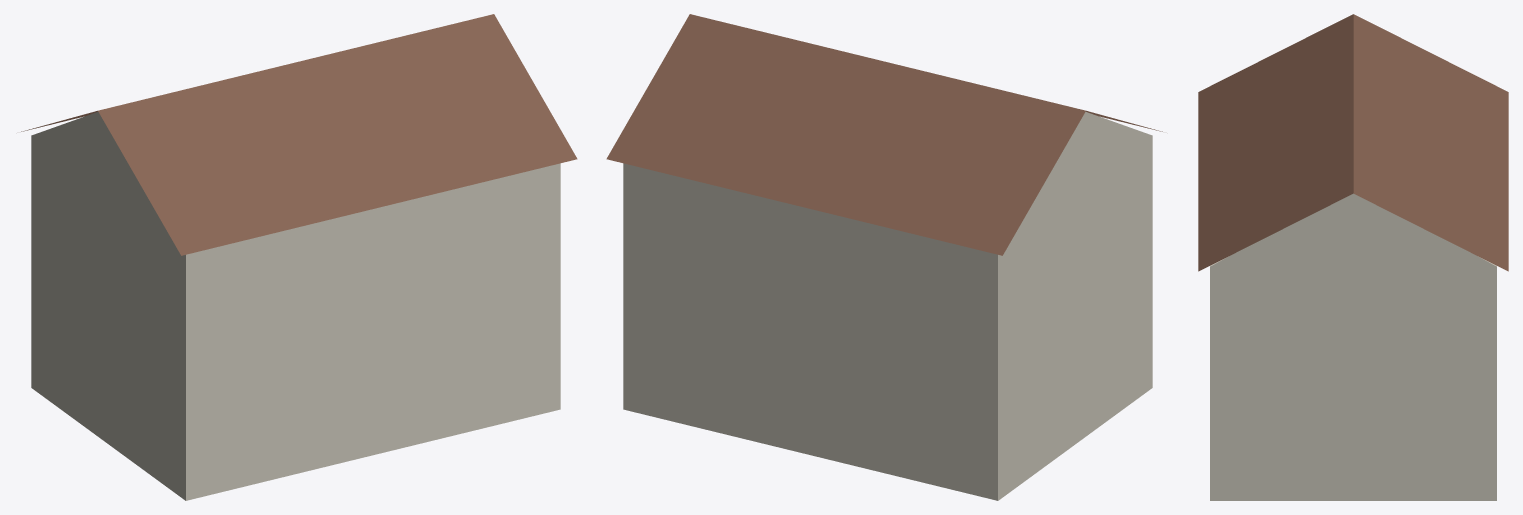
File: House_1_LOD3.glb
3 views of the same model, side by side, from view 1: azimuth 30°, elevation 25°; view 2: azimuth 150°, elevation 25°; view 3: azimuth 270°, elevation 25° (orthographic). The views are drawn at different scales.
Parts seen in each view (by area): view 1: House_1_LOD3; view 2: House_1_LOD3; view 3: House_1_LOD3.
Part boxes in pixels (box(x1,y1,x2,y2)): House_1_LOD3: box(21, 14, 577, 500); House_1_LOD3: box(606, 14, 1162, 500); House_1_LOD3: box(1198, 14, 1508, 500).
Size of the model in its own units: 14.8 by 12 by 10.8.
